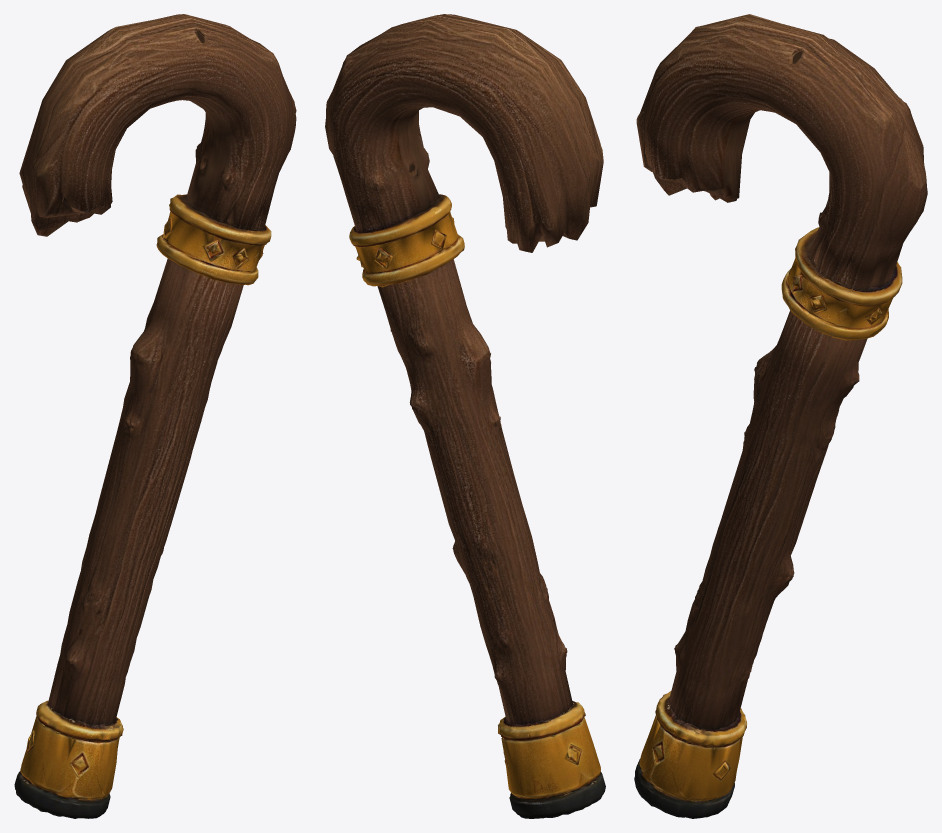
Rendered from club.fbx.
3 views of the same model, side by side, from view 1: azimuth 30°, elevation 25°; view 2: azimuth 150°, elevation 25°; view 3: azimuth 330°, elevation 25° (orthographic). The views are drawn at different scales.
Visible parts, largest first — view 1: tripo_node_8fe5a779; view 2: tripo_node_8fe5a779; view 3: tripo_node_8fe5a779.
Part boxes in pixels (left/top/right/bottom): tripo_node_8fe5a779: left=14, top=14, right=296, bottom=818; tripo_node_8fe5a779: left=325, top=14, right=605, bottom=818; tripo_node_8fe5a779: left=634, top=14, right=927, bottom=818.
Size of the model in its own units: 0.3691 by 0.998 by 0.127.
1 material, 1 textured.
